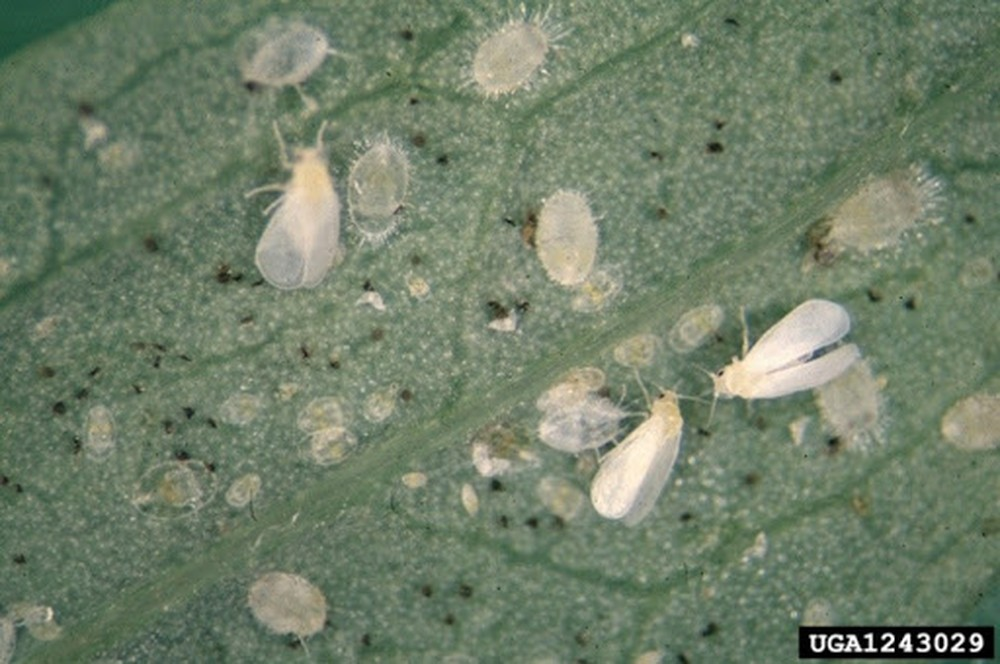Mosca Blanca: (697, 286, 870, 436), (236, 115, 368, 298), (583, 372, 706, 527)
